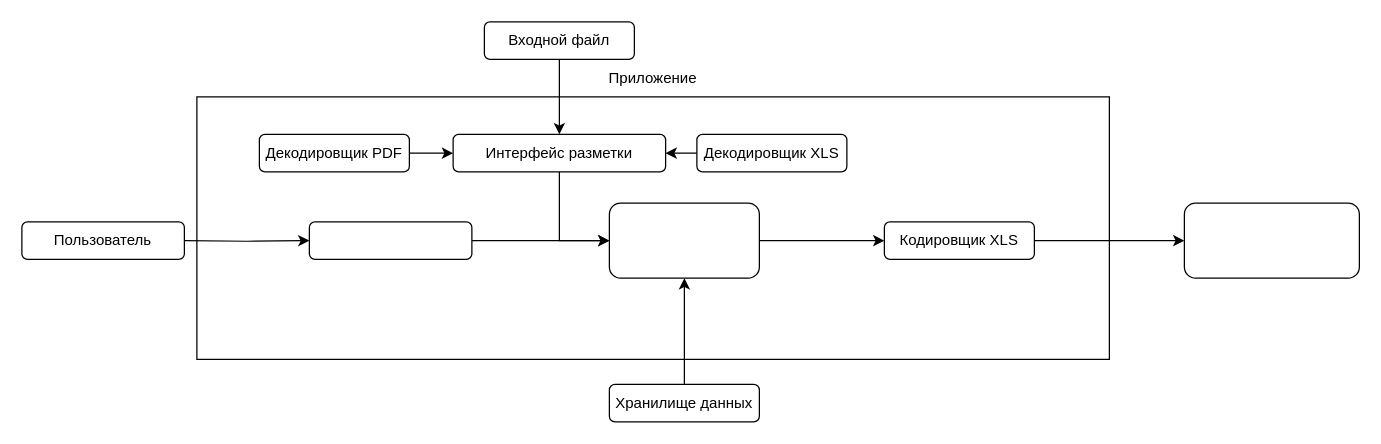
Image size: 1381x444. Some labels were removed from this diagram. The box of each missing label's shape, as (x1, y1, x2, y2) in pixels:
Алгоритм работы с данными: (608, 202, 759, 278)
Выходной файл: (1183, 202, 1359, 278)
Интерфейс: (308, 221, 472, 259)
